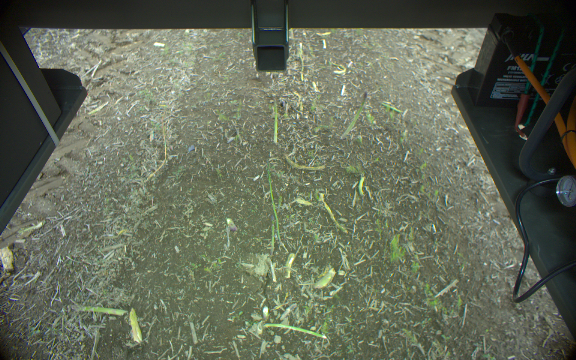aspa: (338, 91, 369, 139), (261, 322, 327, 339), (68, 305, 125, 318), (125, 307, 142, 344), (269, 95, 281, 145), (269, 214, 276, 254)
